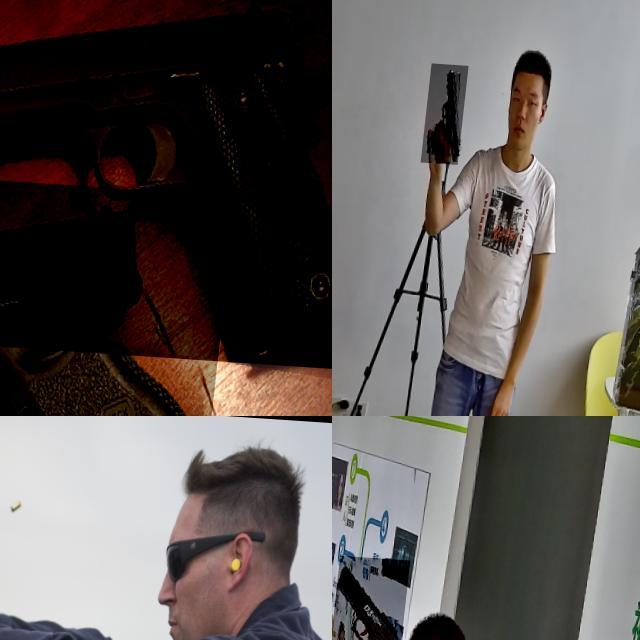gun-knife-thesis - v11 Yolov5 augmented: (0, 0, 332, 363), (0, 165, 241, 416), (333, 551, 415, 640), (0, 516, 65, 603), (426, 60, 472, 160)
